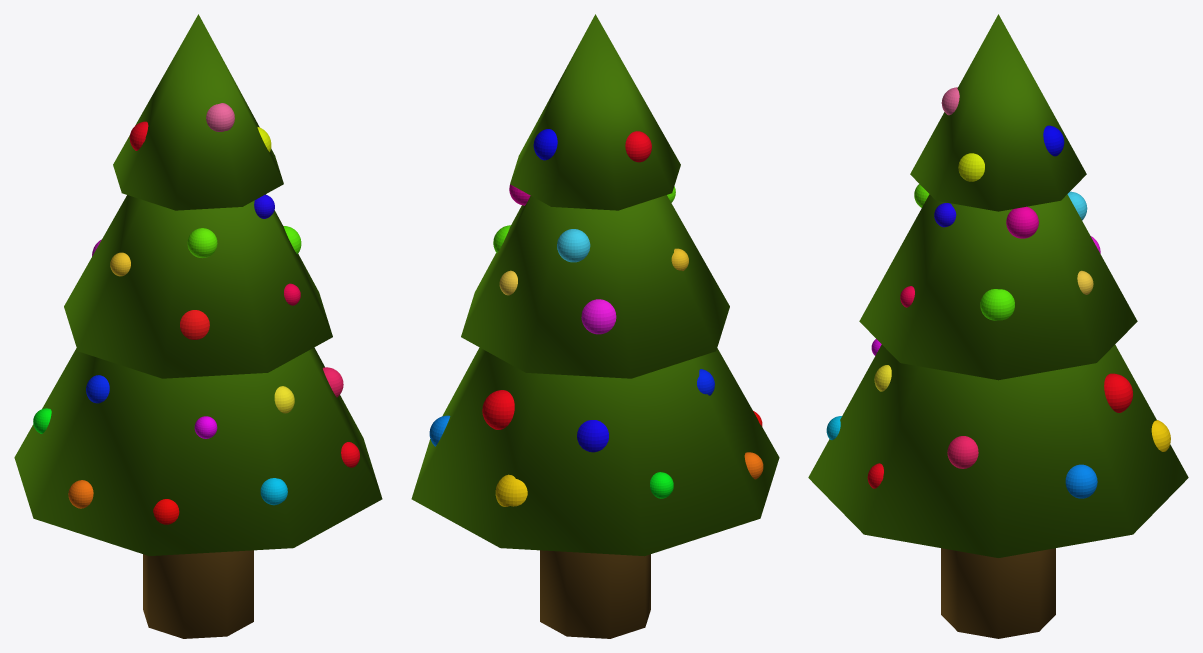
Rendered from arbol.glb.
The picture shows the model from 3 angles, left to right: view 1: azimuth 30°, elevation 25°; view 2: azimuth 150°, elevation 25°; view 3: azimuth 270°, elevation 25°; orthographic projection.
Parts seen in each view (by area): view 1: Cone, Cone.001, Cone.002, Cylinder, Sphere.081, Sphere.080, Sphere.083, Sphere.100, Sphere.101, Sphere.084, Sphere.077; view 2: Cone, Cone.001, Cone.002, Cylinder, Sphere.091, Sphere.097, Sphere.093, Sphere.096, Sphere.095, Sphere.098, Sphere.092, Sphere.086; view 3: Cone, Cone.001, Cone.002, Cylinder, Sphere.088, Sphere.091, Sphere.090, Sphere.089, Sphere.087, Sphere.099.
Part boxes in pixels (x1,y1,x2,y2): Cone: (14, 347, 382, 556); Cone.001: (64, 194, 332, 378); Cone.002: (113, 14, 283, 210); Cylinder: (143, 550, 253, 638); Sphere.081: (187, 228, 217, 257); Sphere.080: (180, 310, 209, 339); Sphere.083: (206, 103, 234, 131); Sphere.100: (260, 478, 287, 505); Sphere.101: (68, 480, 93, 508); Sphere.084: (86, 375, 109, 403); Sphere.077: (153, 499, 179, 524); Cone: (411, 347, 779, 556); Cone.001: (461, 195, 729, 378); Cone.002: (510, 14, 680, 210); Cylinder: (540, 550, 650, 638); Sphere.091: (482, 390, 514, 429); Sphere.097: (581, 299, 616, 334); Sphere.093: (557, 229, 590, 262); Sphere.096: (577, 420, 608, 452); Sphere.095: (495, 474, 527, 506); Sphere.098: (625, 131, 651, 162); Sphere.092: (533, 129, 557, 160); Sphere.086: (650, 472, 673, 498); Cone: (808, 344, 1188, 557); Cone.001: (859, 194, 1137, 380); Cone.002: (910, 14, 1086, 211); Cylinder: (941, 548, 1055, 638); Sphere.088: (980, 289, 1014, 320); Sphere.091: (1104, 373, 1132, 412); Sphere.090: (1065, 464, 1097, 498); Sphere.089: (1006, 206, 1038, 238); Sphere.087: (947, 436, 978, 468); Sphere.099: (958, 153, 984, 181).
Bounding box in the file's own units: 2.27 × 3.96 × 2.27.
